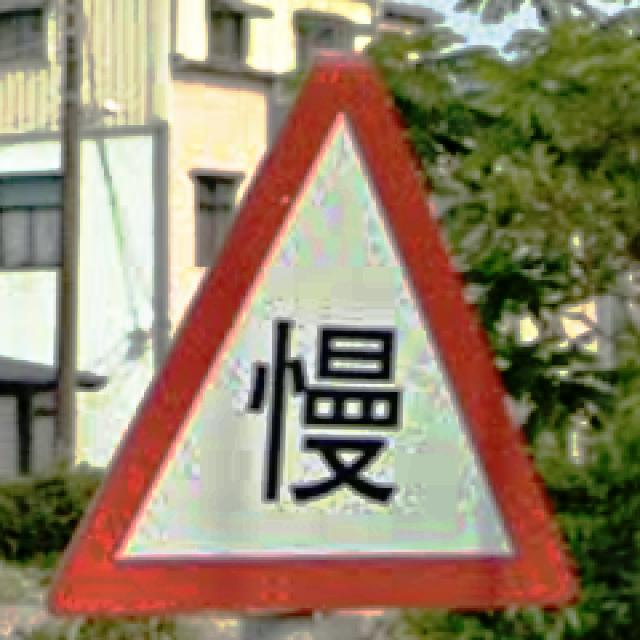slow: (45, 51, 581, 619)
